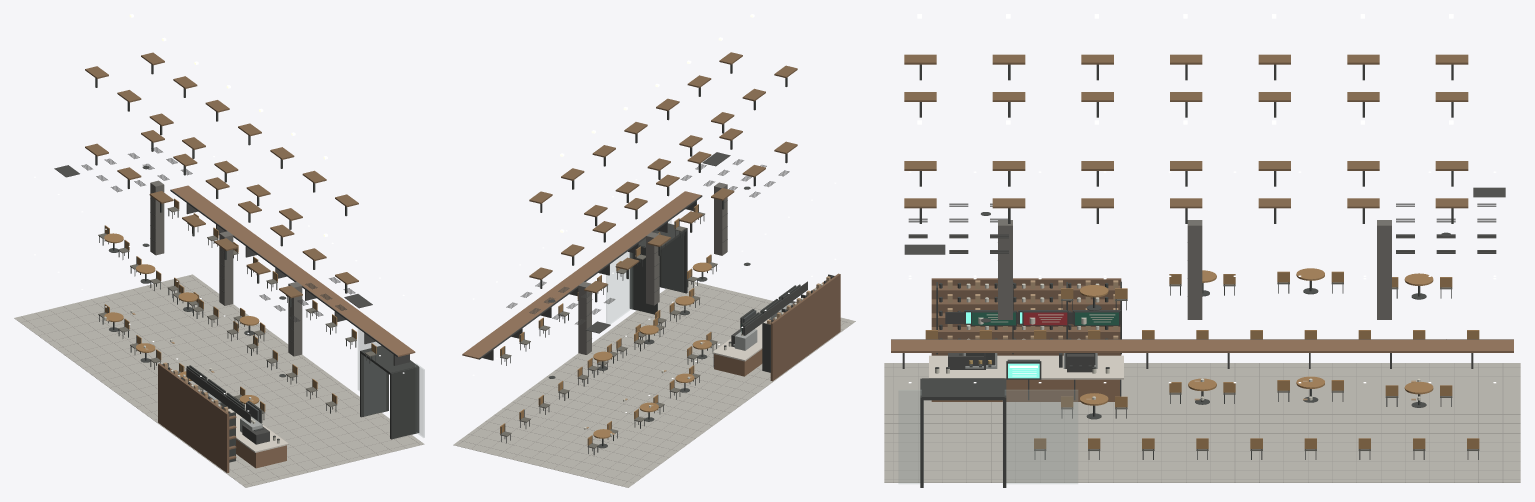
The model's file is 20261103-cafe-interior.glb.
3 views of the same model, side by side, from view 1: azimuth 30°, elevation 25°; view 2: azimuth 150°, elevation 25°; view 3: azimuth 270°, elevation 25° (orthographic). The views are drawn at different scales.
Visible parts, largest first — view 1: Connected cafe photo details - Cafe warm light paving, 048 cafe floor tables, Connected cafe photo details - Cafe walnut shelving, Connected cafe photo details - Cafe warm floor fine joints, Connected upper cafe - Cafe window counter, Connected upper cafe - Cafe study columns, Cafe photo entrance vertical frame, Cafe photo entrance vertical frame.001, Connected upper cafe - Cafe window counter edge and legs, Cafe interpretive open door right leaf, Connected upper cafe - Cafe perforated acoustic ceiling pane, Connected ground cafe - Cafe order counter (+13 smaller); view 2: Connected cafe photo details - Cafe warm light paving, 048 cafe floor tables, Connected cafe photo details - Cafe walnut shelving, Connected cafe photo details - Cafe warm floor fine joints, Connected upper cafe - Cafe window counter, Connected upper cafe - Cafe study columns, Cafe photo entrance vertical frame, Cafe photo ground window section.001, Cafe interpretive open door left leaf, Cafe photo entrance vertical frame.001, Connected upper cafe - Cafe window counter edge and legs, Connected upper cafe - Cafe perforated acoustic ceiling pane (+13 smaller); view 3: Connected cafe photo details - Cafe warm light paving, 048 cafe floor tables, Connected upper cafe - Cafe window counter, Connected cafe photo details - Cafe warm floor fine joints, Cafe photo ground window section.001, Connected cafe photo details - Cafe walnut shelving, Connected upper cafe - Cafe study columns, Connected ground cafe - Cafe order counter top, Connected upper cafe - Cafe refined individual seat backs, Connected ground cafe - Cafe refined individual seat backs, Connected ground cafe - Cafe order counter, Cafe photo ground window section (+12 smaller).
Part boxes in pixels (bbox=[...]): Connected cafe photo details - Cafe warm light paving: bbox=[14, 274, 424, 487]; 048 cafe floor tables: bbox=[85, 52, 358, 298]; Connected cafe photo details - Cafe walnut shelving: bbox=[158, 363, 236, 472]; Connected cafe photo details - Cafe warm floor fine joints: bbox=[21, 275, 420, 485]; Connected upper cafe - Cafe window counter: bbox=[171, 185, 415, 356]; Connected upper cafe - Cafe study columns: bbox=[150, 180, 302, 356]; Cafe photo entrance vertical frame: bbox=[390, 366, 419, 439]; Cafe photo entrance vertical frame.001: bbox=[360, 346, 388, 417]; Connected upper cafe - Cafe window counter edge and legs: bbox=[170, 189, 409, 365]; Cafe interpretive open door right leaf: bbox=[364, 357, 385, 415]; Connected upper cafe - Cafe perforated acoustic ceiling pane: bbox=[81, 147, 355, 322]; Connected ground cafe - Cafe order counter: bbox=[236, 439, 286, 468]; Connected cafe photo details - Cafe warm light paving: bbox=[453, 281, 855, 487]; 048 cafe floor tables: bbox=[529, 52, 797, 293]; Connected cafe photo details - Cafe walnut shelving: bbox=[770, 273, 840, 381]; Connected cafe photo details - Cafe warm floor fine joints: bbox=[457, 283, 850, 485]; Connected upper cafe - Cafe window counter: bbox=[462, 191, 701, 359]; Connected upper cafe - Cafe study columns: bbox=[578, 182, 727, 354]; Cafe photo entrance vertical frame: bbox=[659, 223, 687, 293]; Cafe photo ground window section.001: bbox=[606, 252, 632, 324]; Cafe interpretive open door left leaf: bbox=[662, 234, 683, 291]; Cafe photo entrance vertical frame.001: bbox=[629, 246, 657, 314]; Connected upper cafe - Cafe window counter edge and legs: bbox=[479, 195, 702, 360]; Connected upper cafe - Cafe perforated acoustic ceiling pane: bbox=[506, 159, 789, 324]; Connected cafe photo details - Cafe warm light paving: bbox=[884, 363, 1520, 482]; 048 cafe floor tables: bbox=[904, 54, 1468, 208]; Connected upper cafe - Cafe window counter: bbox=[891, 339, 1513, 352]; Connected cafe photo details - Cafe warm floor fine joints: bbox=[884, 363, 1520, 482]; Cafe photo ground window section.001: bbox=[1005, 390, 1077, 483]; Connected cafe photo details - Cafe walnut shelving: bbox=[931, 278, 1121, 355]; Connected upper cafe - Cafe study columns: bbox=[998, 220, 1391, 319]; Connected ground cafe - Cafe order counter top: bbox=[929, 355, 1123, 379]; Connected upper cafe - Cafe refined individual seat backs: bbox=[925, 271, 1479, 339]; Connected ground cafe - Cafe refined individual seat backs: bbox=[1034, 380, 1479, 448]; Connected ground cafe - Cafe order counter: bbox=[931, 379, 1119, 401]; Cafe photo ground window section: bbox=[898, 390, 921, 483].
Size of the model in its own units: 10.07 by 15.33 by 21.54.
